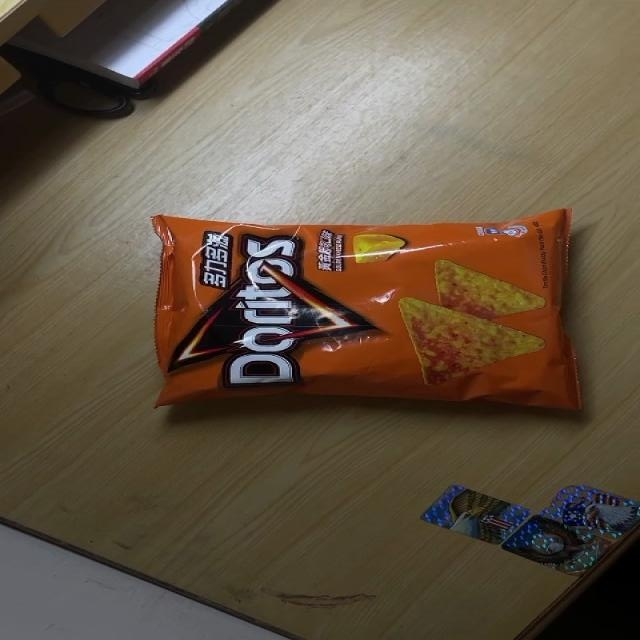Doritos: (147, 205, 577, 410)
